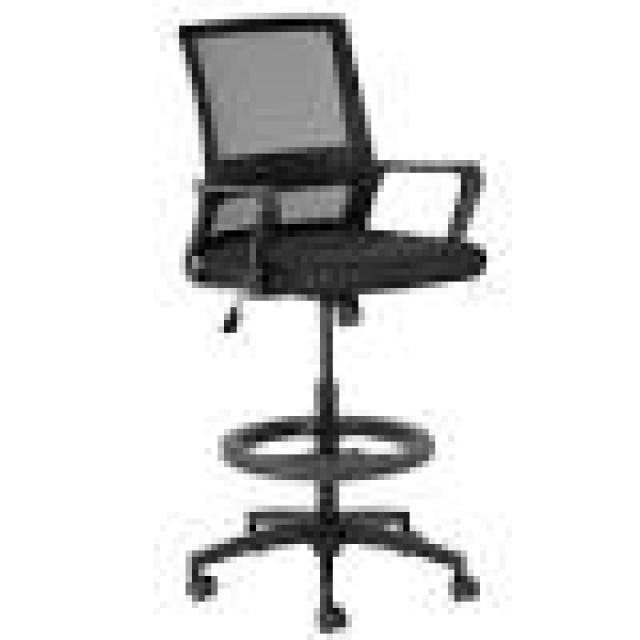chair: (100, 0, 540, 640)
